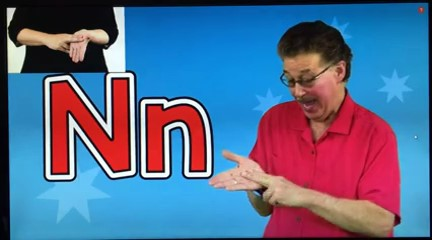N: (45, 26, 97, 66)
